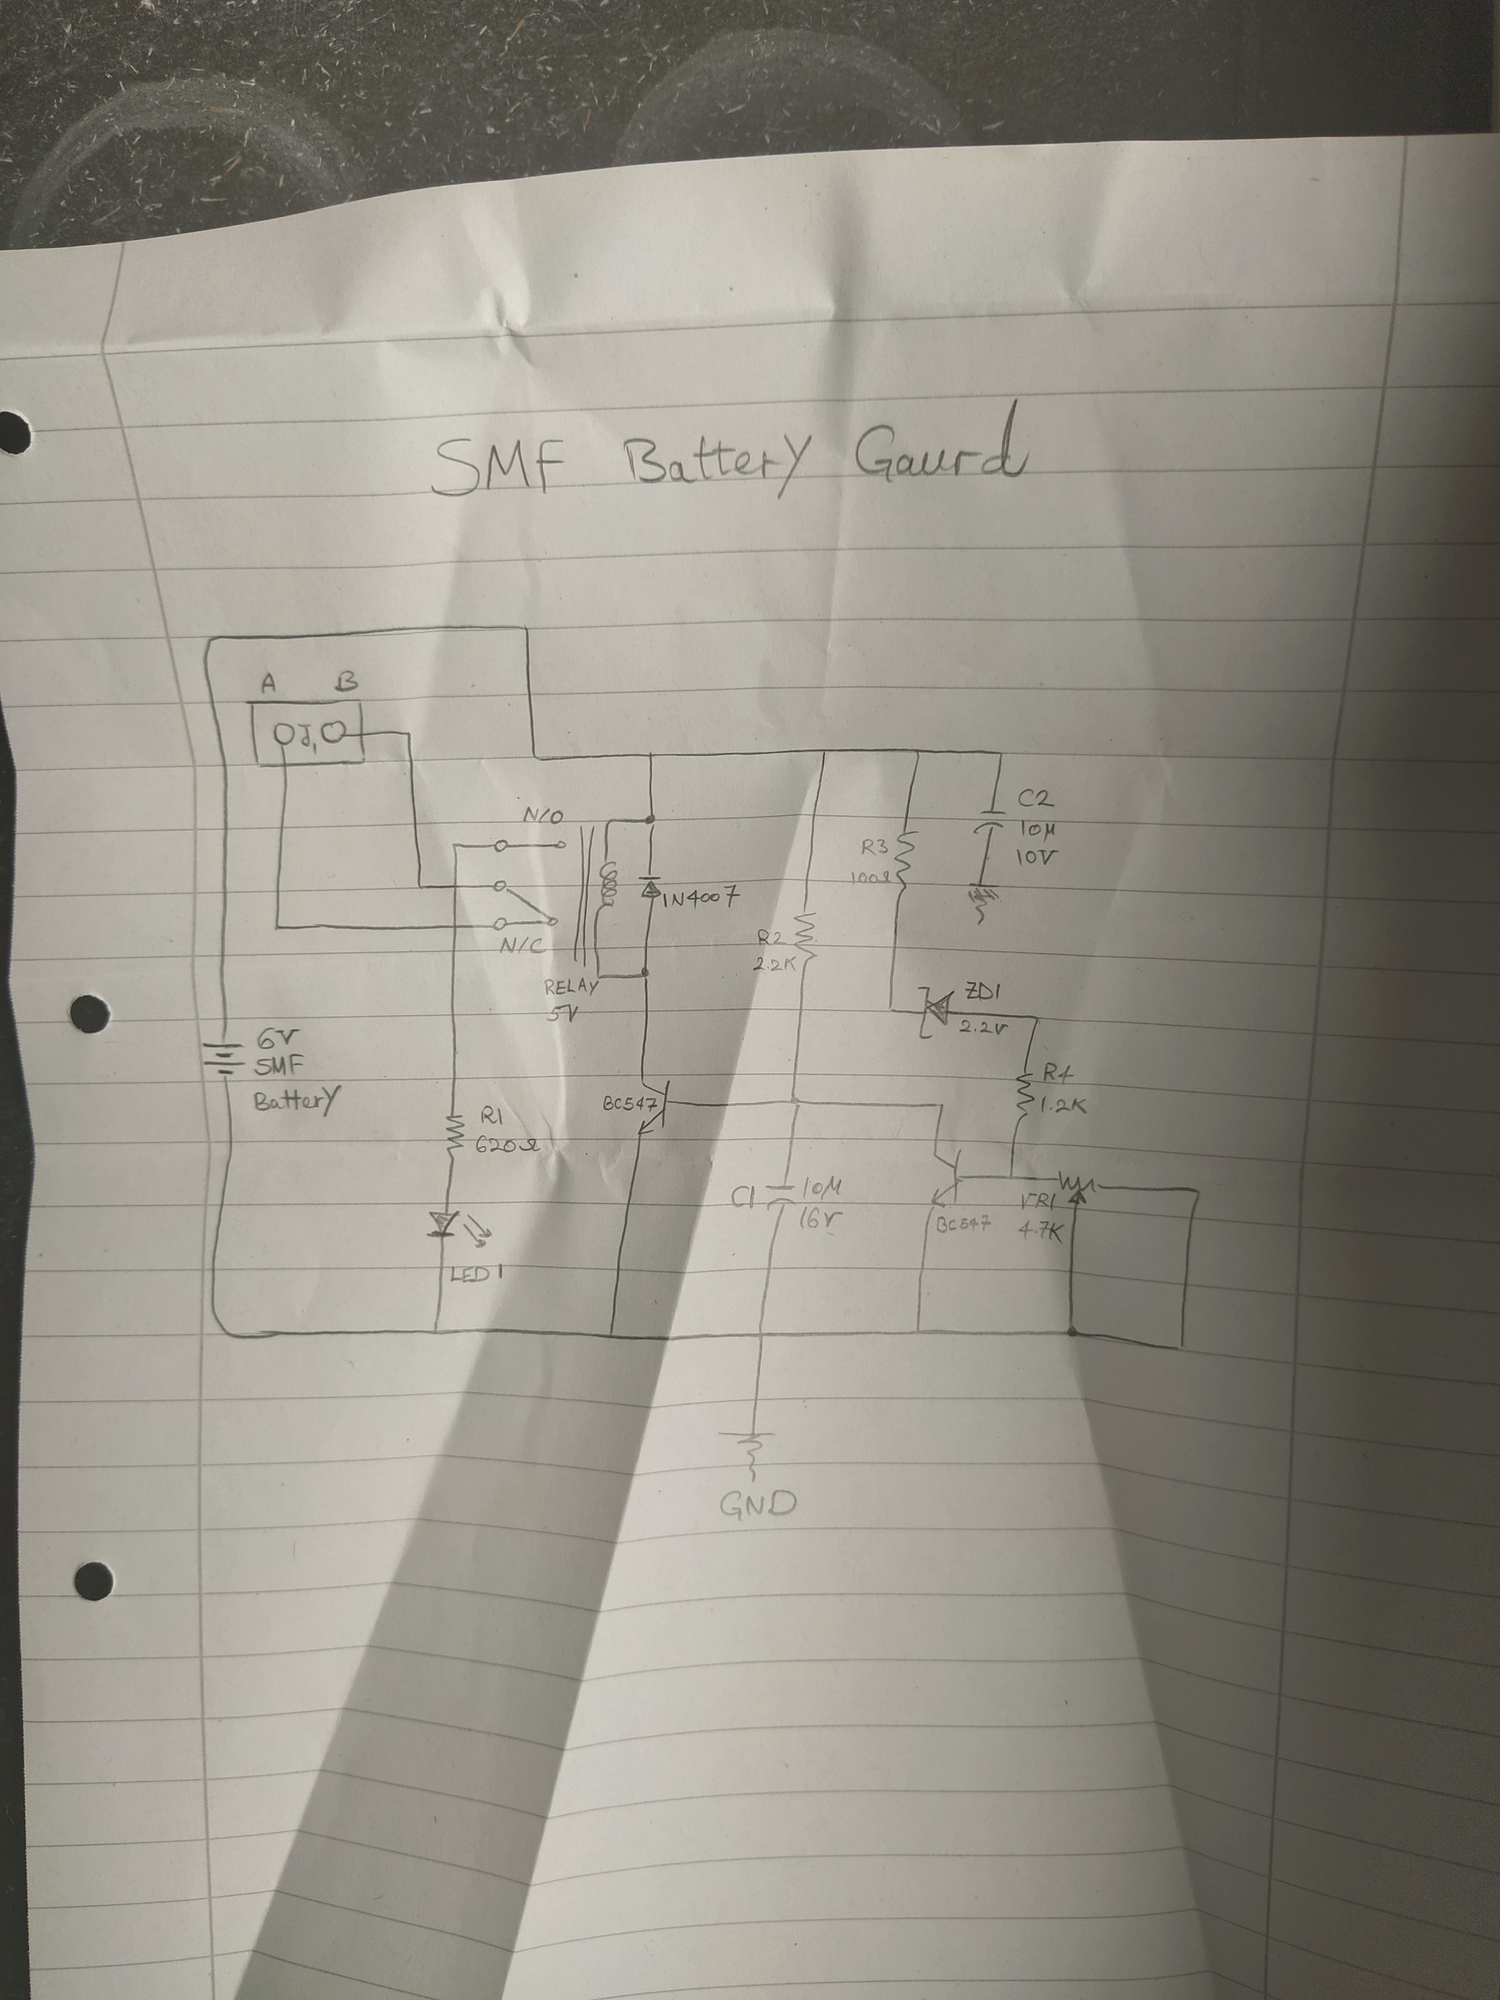capacitor.unpolarized: (974, 806, 1012, 838), (763, 1183, 800, 1213)
crossover: (447, 879, 462, 894), (447, 920, 463, 934)
diode: (911, 984, 964, 1035), (637, 872, 663, 899)
diode.light_emitting: (424, 1202, 495, 1246)
gnd: (715, 1428, 778, 1483), (964, 880, 1004, 928)
junction: (210, 1315, 239, 1345), (269, 918, 288, 939), (635, 964, 654, 983), (1064, 1323, 1082, 1342), (1001, 1165, 1019, 1184), (1186, 1184, 1205, 1202), (202, 628, 217, 649), (786, 1091, 804, 1109), (1172, 1339, 1190, 1354), (911, 1321, 926, 1339), (882, 1000, 898, 1016), (528, 750, 544, 765), (603, 1328, 619, 1343), (429, 1323, 444, 1339), (517, 620, 534, 635), (641, 813, 659, 827), (753, 1328, 770, 1342), (399, 726, 414, 740), (993, 746, 1008, 761), (1027, 1013, 1045, 1025), (818, 743, 832, 757), (413, 880, 427, 894), (643, 750, 659, 762), (934, 1098, 949, 1110), (911, 746, 923, 757), (451, 839, 462, 852)
relay: (488, 809, 622, 983)
resistor: (889, 825, 919, 891), (1010, 1068, 1037, 1121), (789, 907, 818, 957), (441, 1109, 470, 1157)
resistor.adjustable: (1056, 1169, 1101, 1206)
terminal: (271, 720, 296, 748), (318, 720, 347, 745)
text: (416, 422, 1084, 509), (251, 1083, 343, 1121), (718, 1487, 799, 1520), (662, 882, 742, 912), (471, 1132, 547, 1157), (447, 1261, 506, 1287), (252, 1052, 306, 1079), (933, 1213, 997, 1235), (592, 1090, 652, 1113), (544, 975, 600, 998), (518, 802, 567, 828), (498, 932, 548, 957), (255, 1024, 303, 1050), (960, 975, 1004, 1002), (1015, 843, 1060, 868), (1013, 1217, 1059, 1243), (1038, 1094, 1090, 1117), (953, 1017, 1010, 1036), (1015, 784, 1059, 808), (1016, 1186, 1064, 1208), (804, 1173, 845, 1198), (797, 1208, 843, 1230), (752, 953, 800, 973), (1041, 1058, 1079, 1083), (1019, 817, 1057, 843), (730, 1183, 759, 1213), (545, 1002, 578, 1027), (296, 721, 320, 756), (849, 869, 893, 887), (479, 1102, 506, 1128), (334, 668, 359, 694), (756, 928, 789, 946), (860, 836, 890, 857), (260, 669, 280, 693)
transistor: (633, 1076, 671, 1137), (928, 1154, 963, 1211)
voltage.dc: (199, 1039, 247, 1080)
